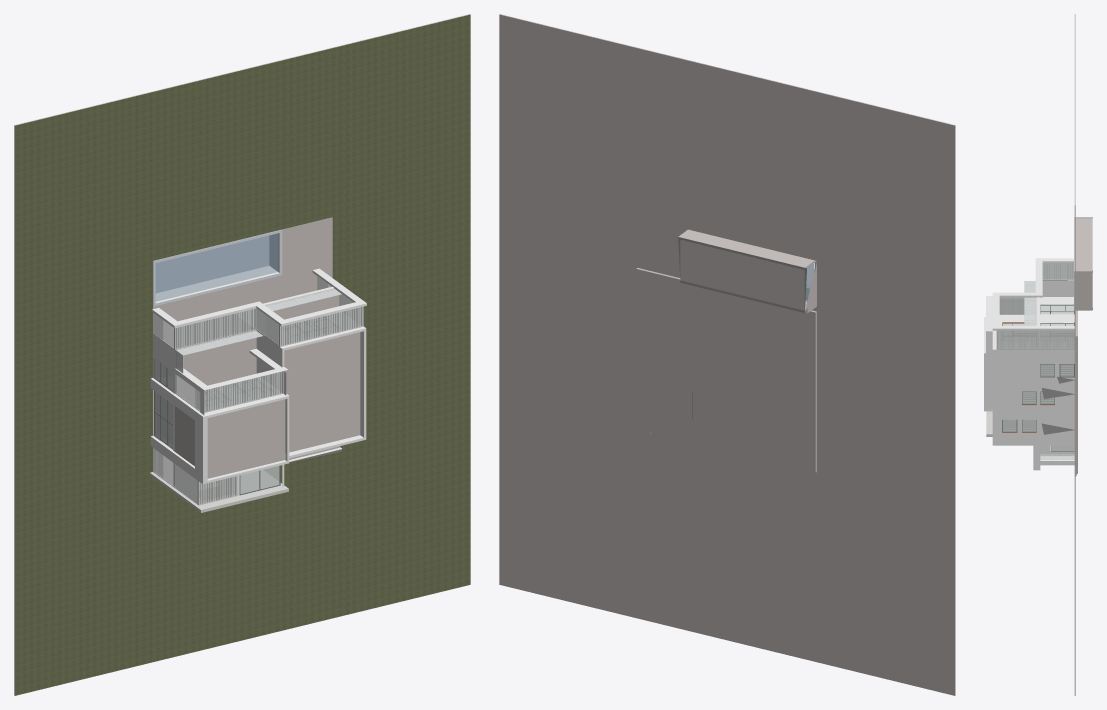
File: villa21_far.glb
3 views of the same model, side by side, from view 1: azimuth 30°, elevation 25°; view 2: azimuth 150°, elevation 25°; view 3: azimuth 270°, elevation 25° (orthographic). The views are drawn at different scales.
Parts seen in each view (by area): view 1: Obj.13015:1, Obj.13015, Obj.10196:1, Obj.19354, Obj.19948, Obj.19862, Obj.11544:4, Obj.19878, Obj.12397; view 2: Obj.13015, Obj.10197:1; view 3: Obj.10196:1, Obj.19354, Obj.13015, Obj.19948, Obj.10197:1, Obj.10288:1, Obj.11544:4.
Boxes of the visible parts, x1,y1,x2,y2 form: Obj.13015:1: (15,14,470,695); Obj.13015: (14,14,470,695); Obj.10196:1: (150,233,366,495); Obj.19354: (153,277,362,504); Obj.19948: (153,276,363,505); Obj.19862: (155,233,277,301); Obj.11544:4: (176,289,341,373); Obj.19878: (153,229,282,306); Obj.12397: (149,472,288,512); Obj.13015: (499,14,955,695); Obj.10197:1: (678,237,816,418); Obj.10196:1: (984,258,1074,470); Obj.19354: (998,263,1074,459); Obj.13015: (988,14,1092,695); Obj.19948: (996,263,1074,459); Obj.10197:1: (1041,217,1092,451); Obj.10288:1: (1002,304,1074,432); Obj.11544:4: (1024,281,1035,325).
Bounding box in the file's own units: 39.59 × 47.32 × 9.5.
Materials: 29 (8 with a texture image).
